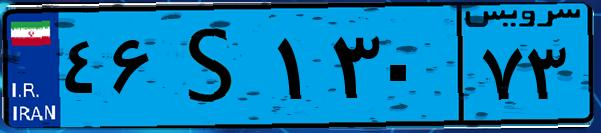0: (385, 28, 445, 110)
1: (270, 28, 330, 110)
3: (330, 28, 385, 110), (525, 38, 570, 115)
4: (57, 26, 110, 100)
6: (110, 28, 158, 98)
7: (475, 38, 525, 113)
S: (158, 12, 270, 120)
